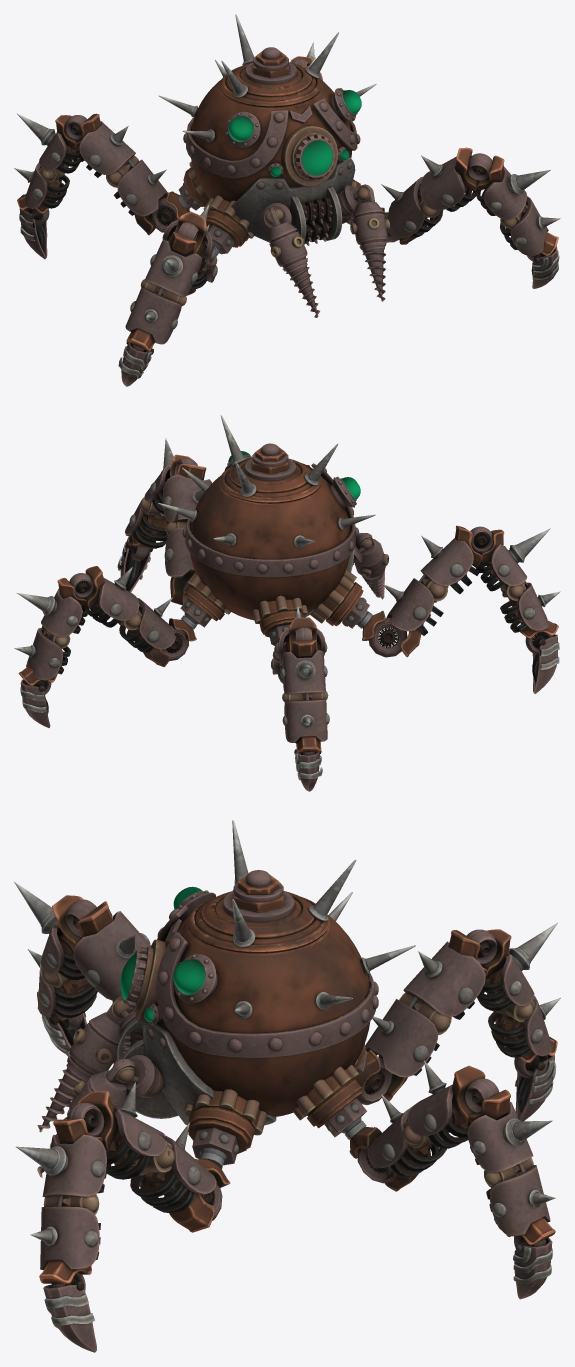
The model's file is steampunk_spider_robot.glb.
The picture shows the model from 3 angles, top to bottom: view 1: azimuth 30°, elevation 25°; view 2: azimuth 150°, elevation 25°; view 3: azimuth 270°, elevation 25°; orthographic projection. The views are drawn at different scales.
Parts seen in each view (by area): view 1: Sphere; view 2: Sphere; view 3: Sphere.
Boxes of the visible parts, box(x1,y1,x2,y2) form: Sphere: box(14, 14, 560, 386); Sphere: box(14, 415, 560, 791); Sphere: box(14, 820, 560, 1352).
Bounding box in the file's own units: 613 × 342 × 478.
1 material, 1 textured.
